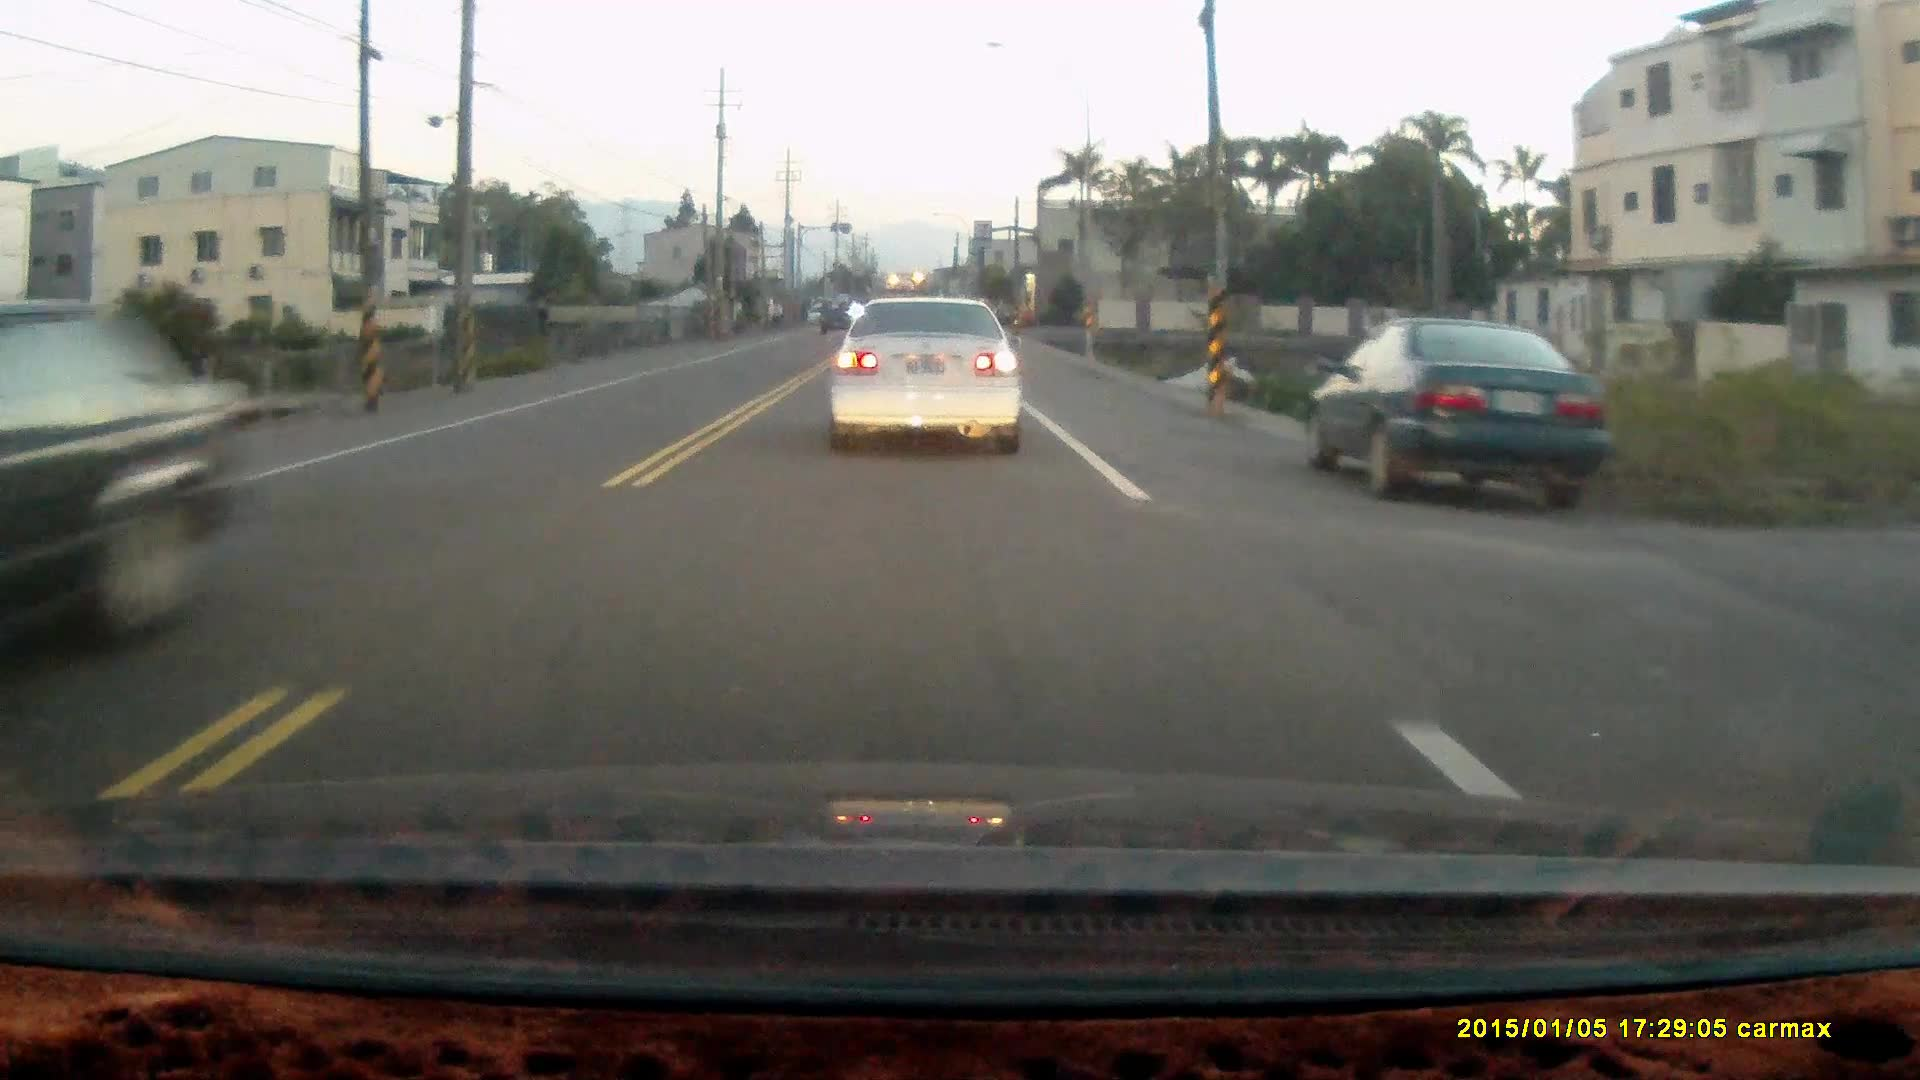vehicle: (1, 299, 251, 673), (1298, 320, 1604, 498), (828, 286, 1025, 440), (819, 301, 855, 336)
